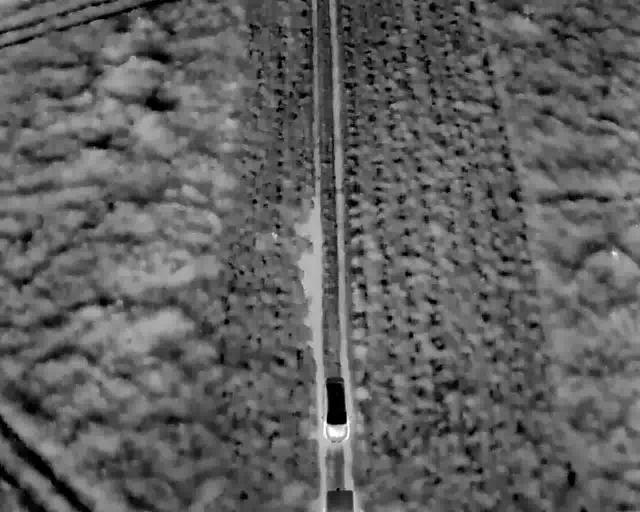car: (320, 376, 352, 443), (325, 486, 357, 512)
